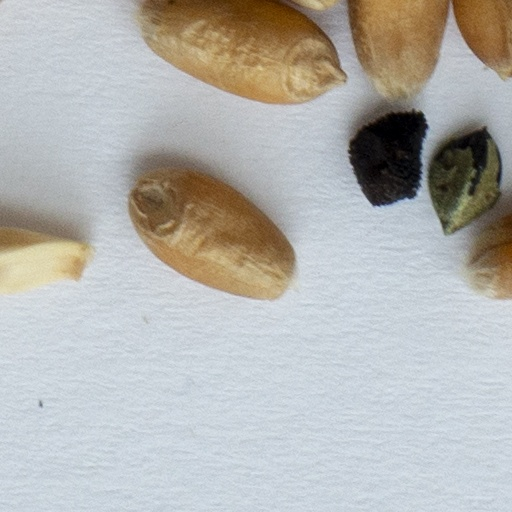Agrostemma-poly: (350, 106, 428, 206)
Fallopia-Convolvulus-poly: (430, 128, 499, 233)
